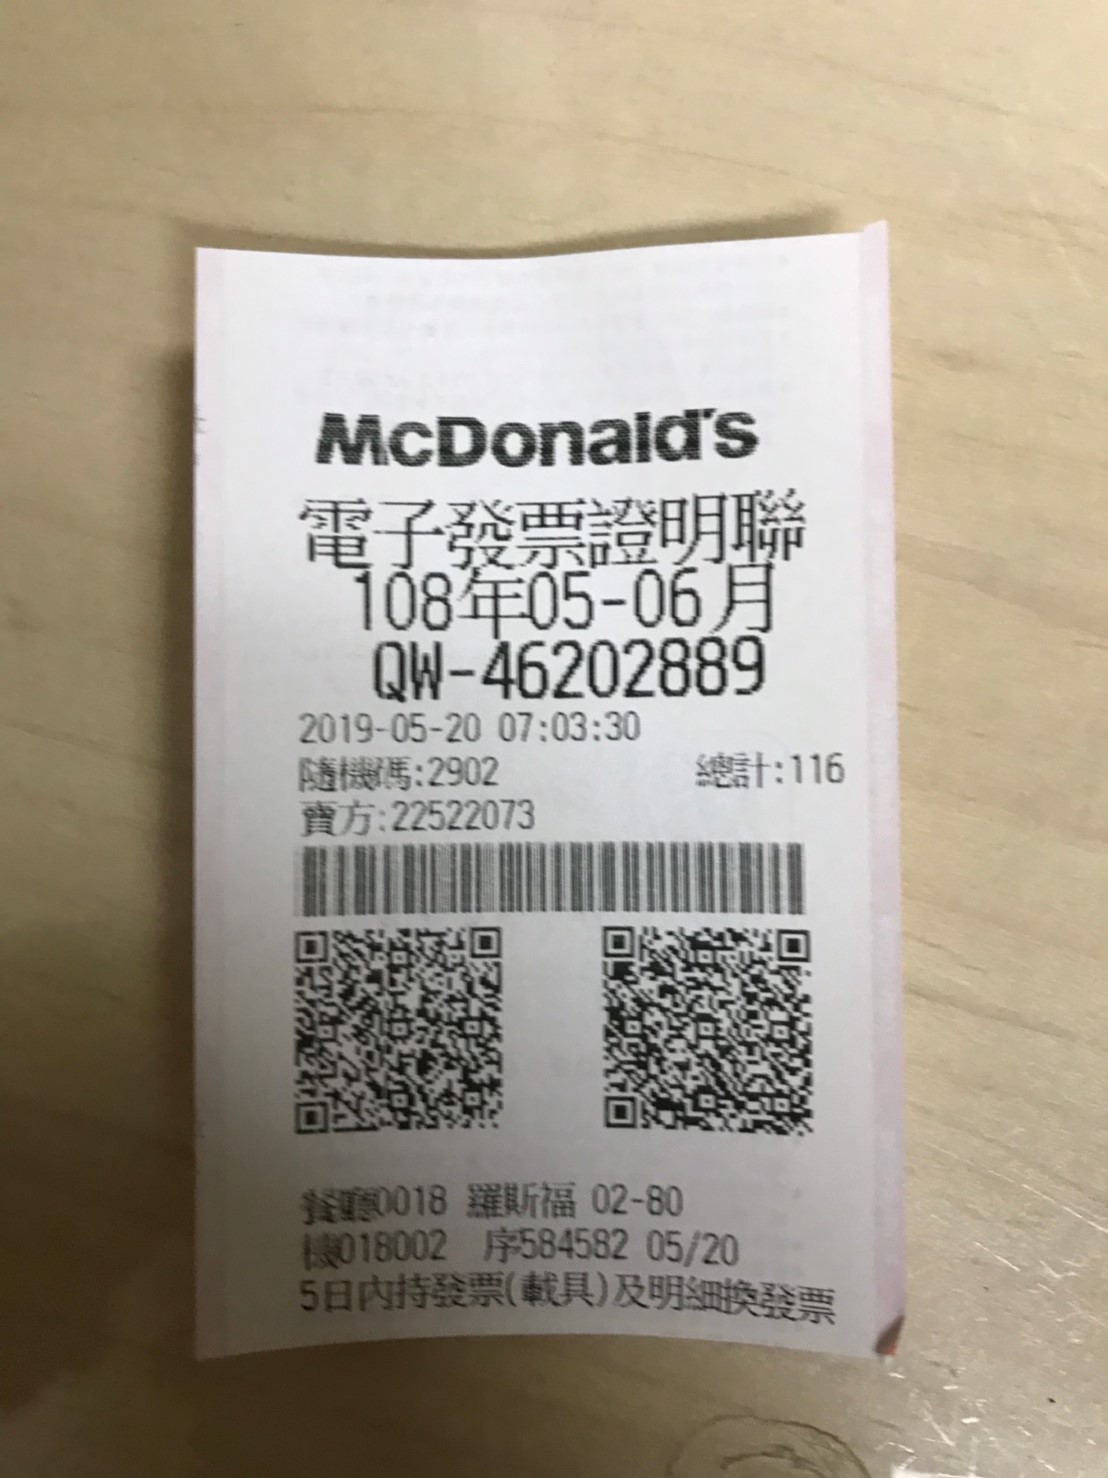Date_New: (353, 562, 777, 637)
Number_New: (480, 638, 772, 696)
